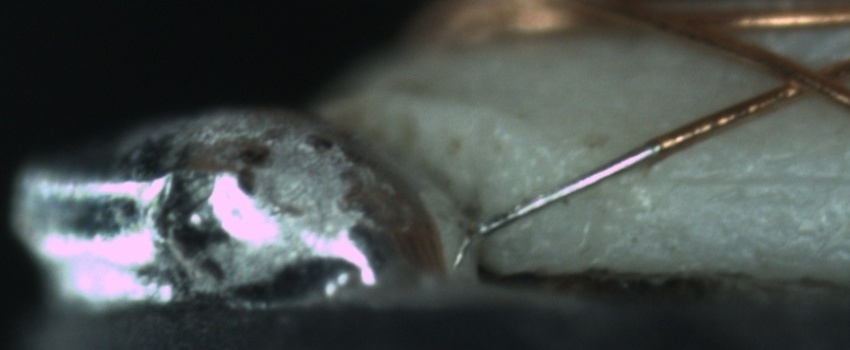CL: (761, 50, 845, 105)
DL: (636, 143, 850, 214)
TS: (469, 140, 659, 239)
